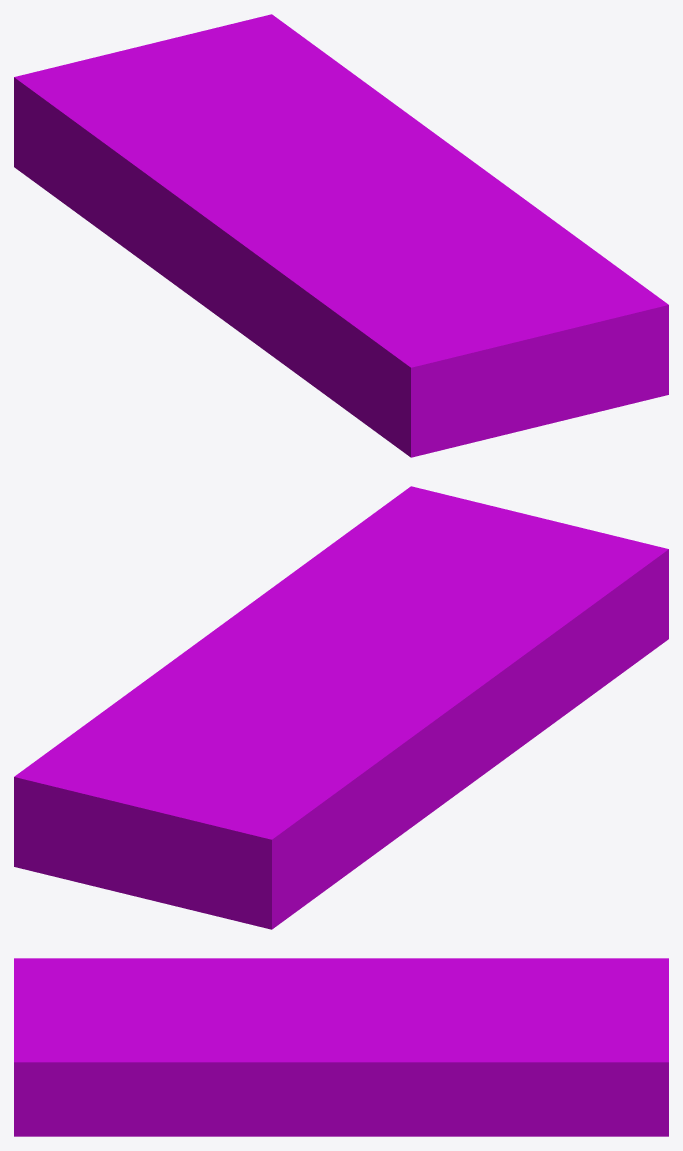
Rendered from Dense.glb.
3 views of the same model, one above another, from view 1: azimuth 30°, elevation 25°; view 2: azimuth 150°, elevation 25°; view 3: azimuth 270°, elevation 25° (orthographic). The views are drawn at different scales.
Parts seen in each view (by area): view 1: Cube.001; view 2: Cube.001; view 3: Cube.001.
Boxes of the visible parts, x1,y1,x2,y2 form: Cube.001: [14, 14, 668, 457]; Cube.001: [14, 486, 668, 929]; Cube.001: [14, 958, 668, 1136].
Size of the model in its own units: 3 by 1 by 8.
